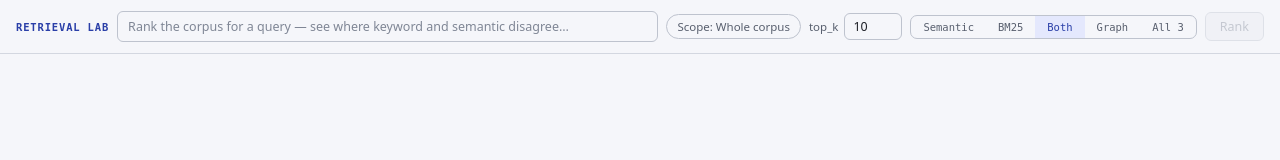
Test case: RetrievalLab graph mode › ranks by graph and shows matched entities
Click the button "Graph": {"x": 1112, "y": 26} top-left (1085, 16), bottom-right (1140, 38)
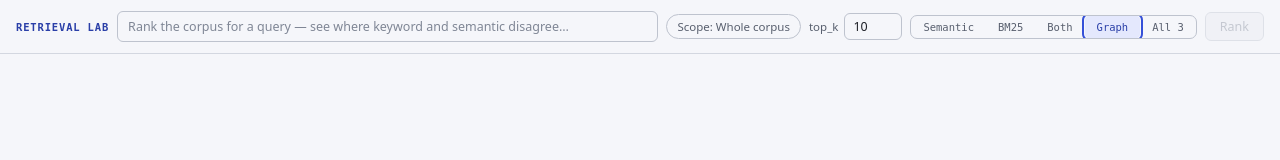
In the search field named "Retrieval query": {"x": 388, "y": 26} top-left (117, 11), bottom-right (658, 42), type "negative gearing"
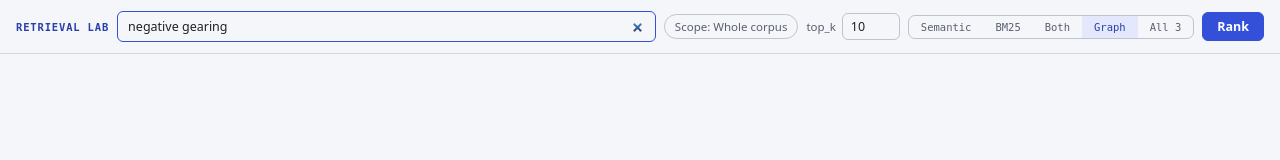
Click the button "Rank": {"x": 1233, "y": 26} top-left (1202, 12), bottom-right (1264, 41)
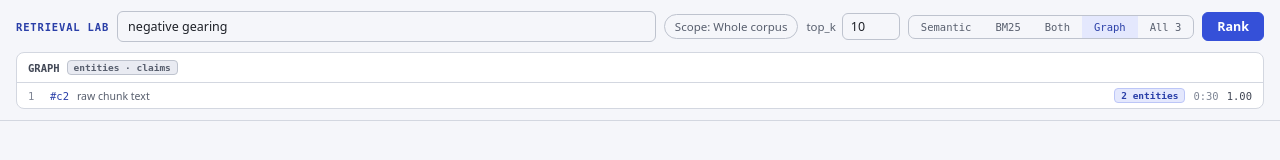
Expected: the text "2 entities" is shown, top-left (1114, 88), bottom-right (1185, 103)
